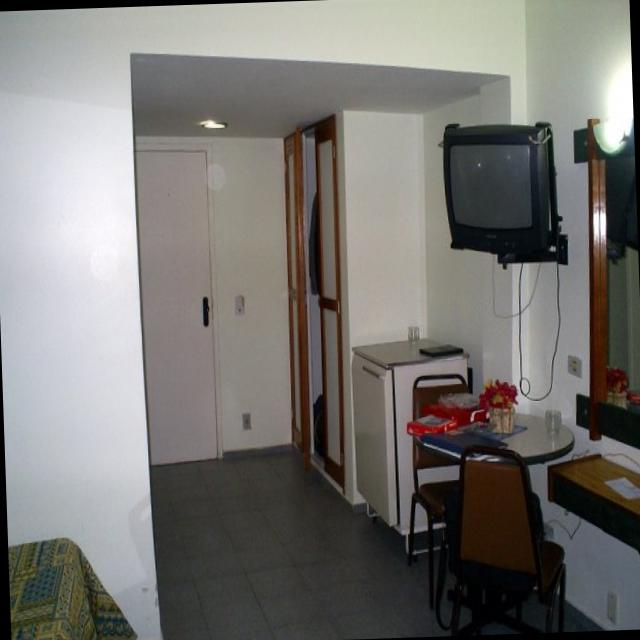Bed skirt: (9, 532, 140, 640)
Power Outlet: (568, 354, 582, 378)
TV: (442, 118, 558, 256)
door bars: (137, 148, 219, 467)
light switch: (235, 296, 245, 314)
mirror crop: (592, 156, 640, 414)
table -X: (416, 401, 570, 456)
